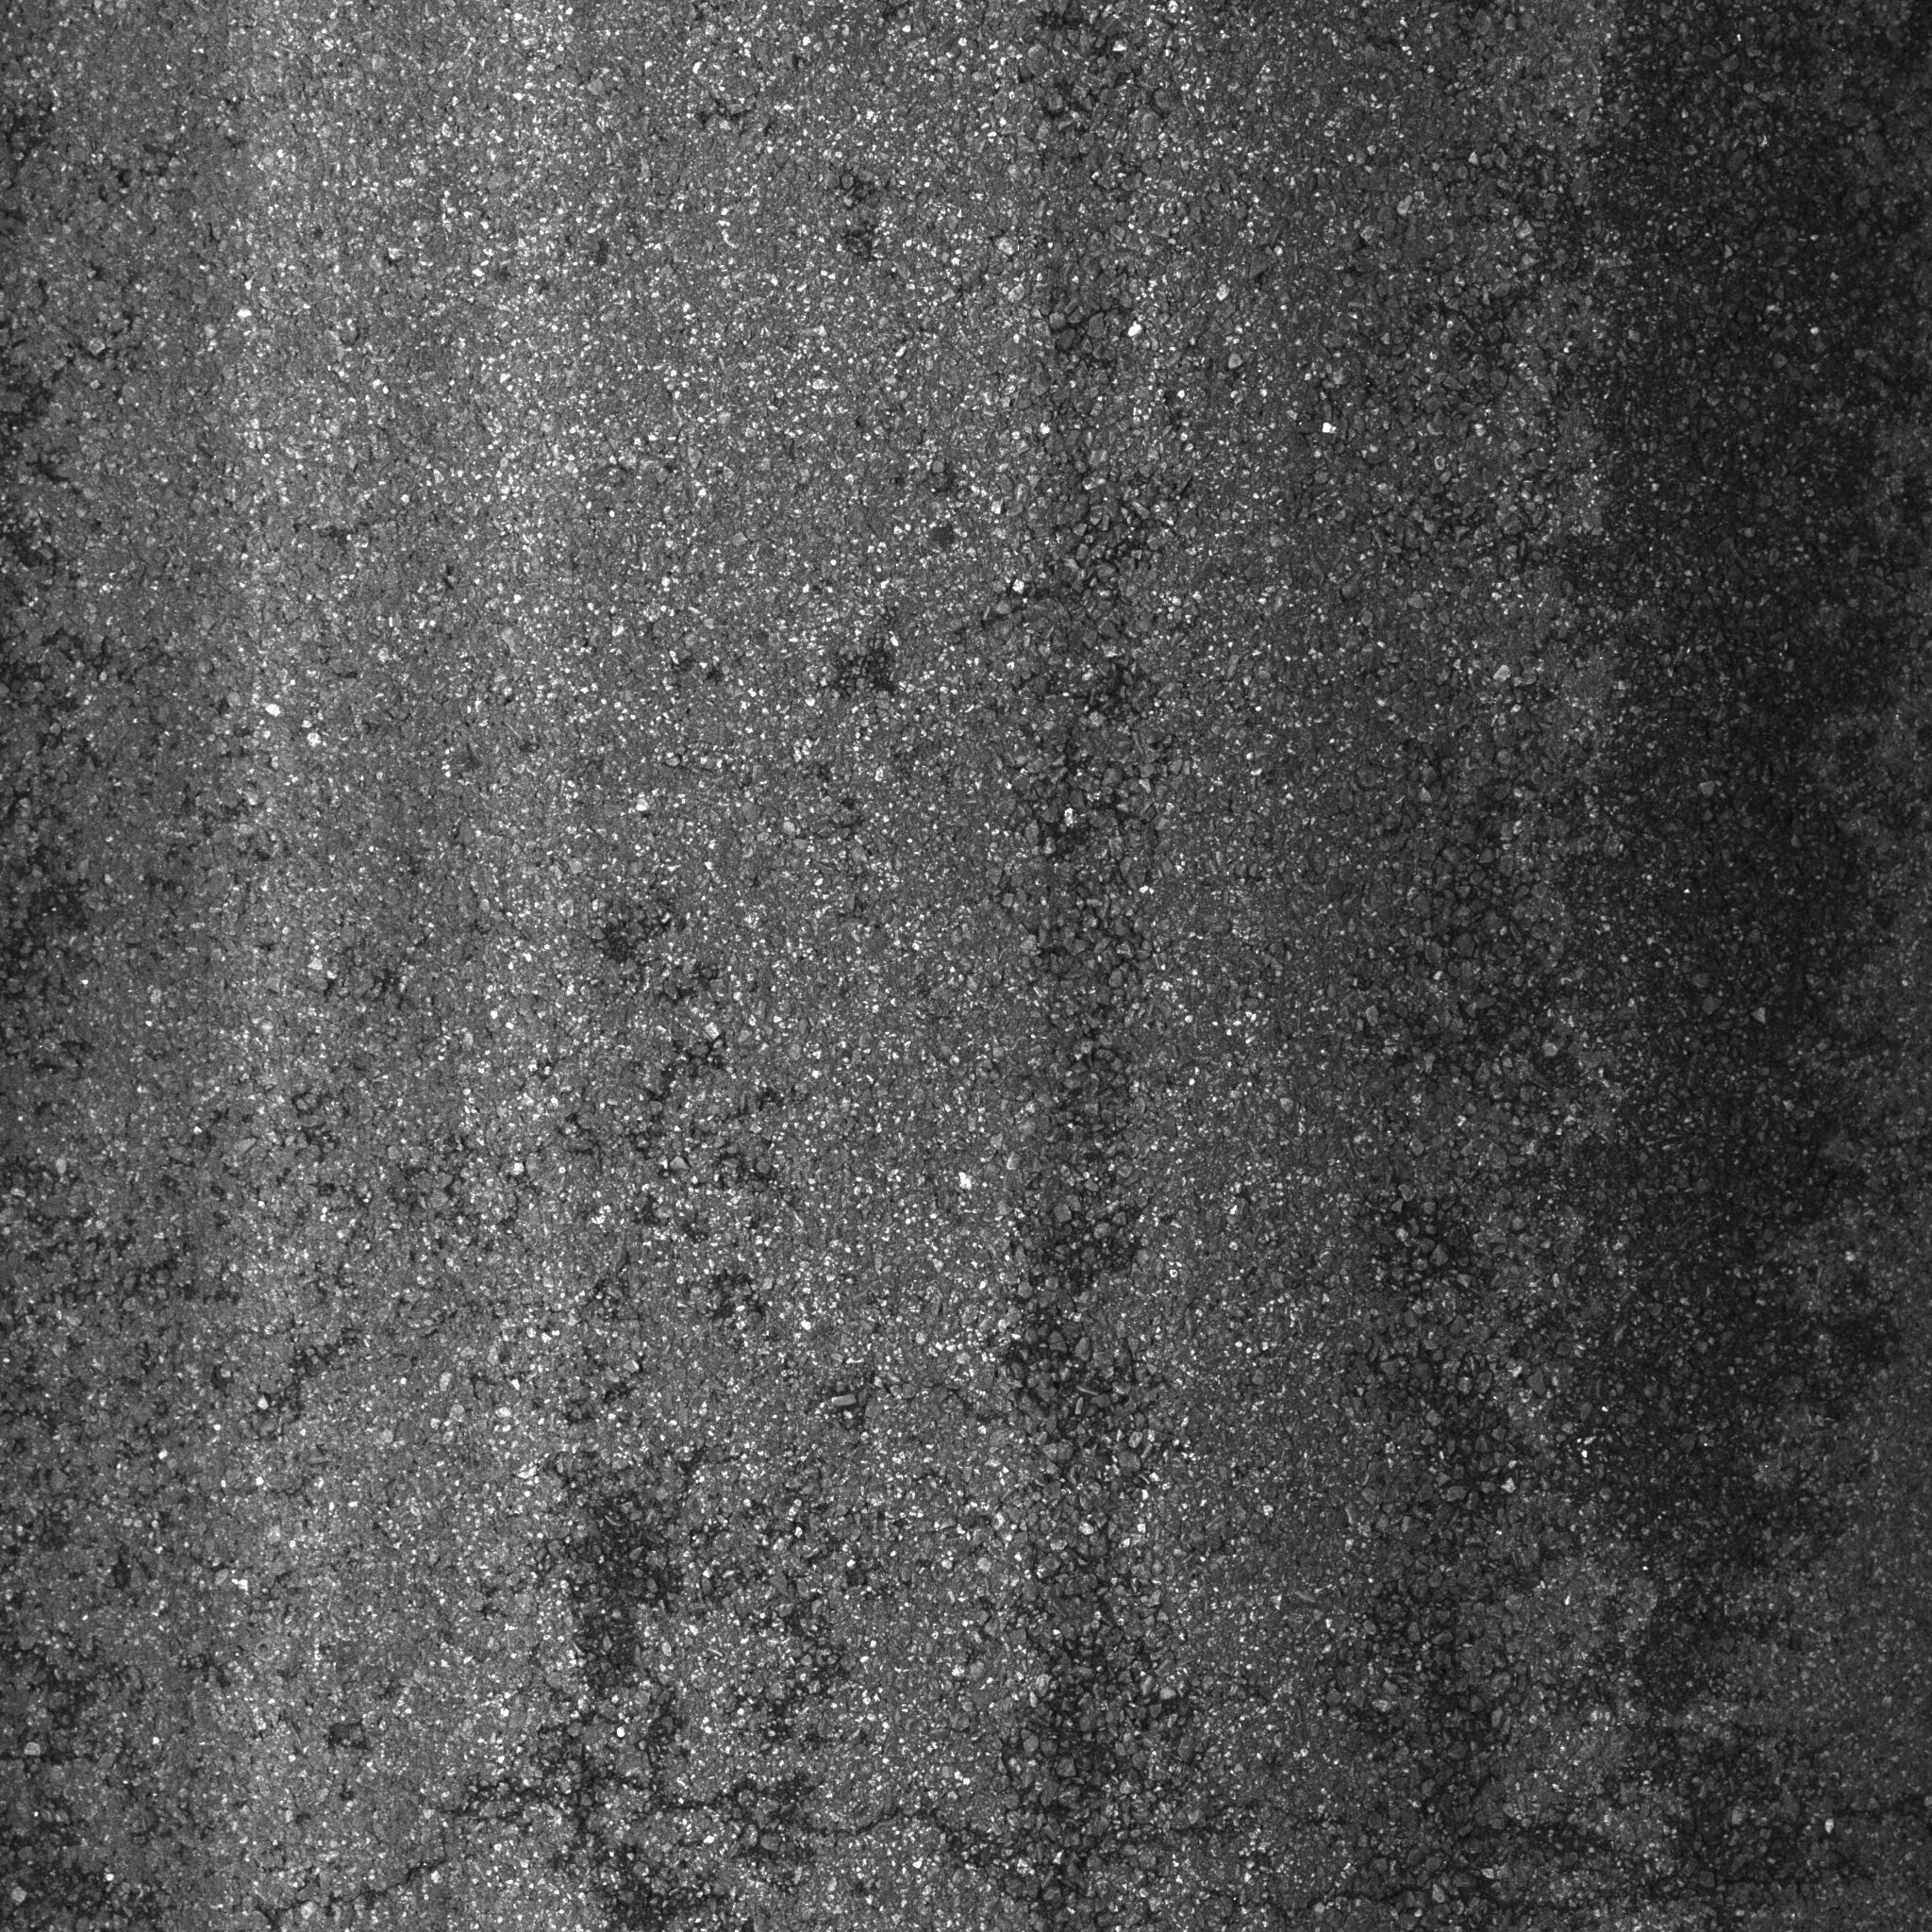transeverse: (195, 1748, 1932, 1927)
